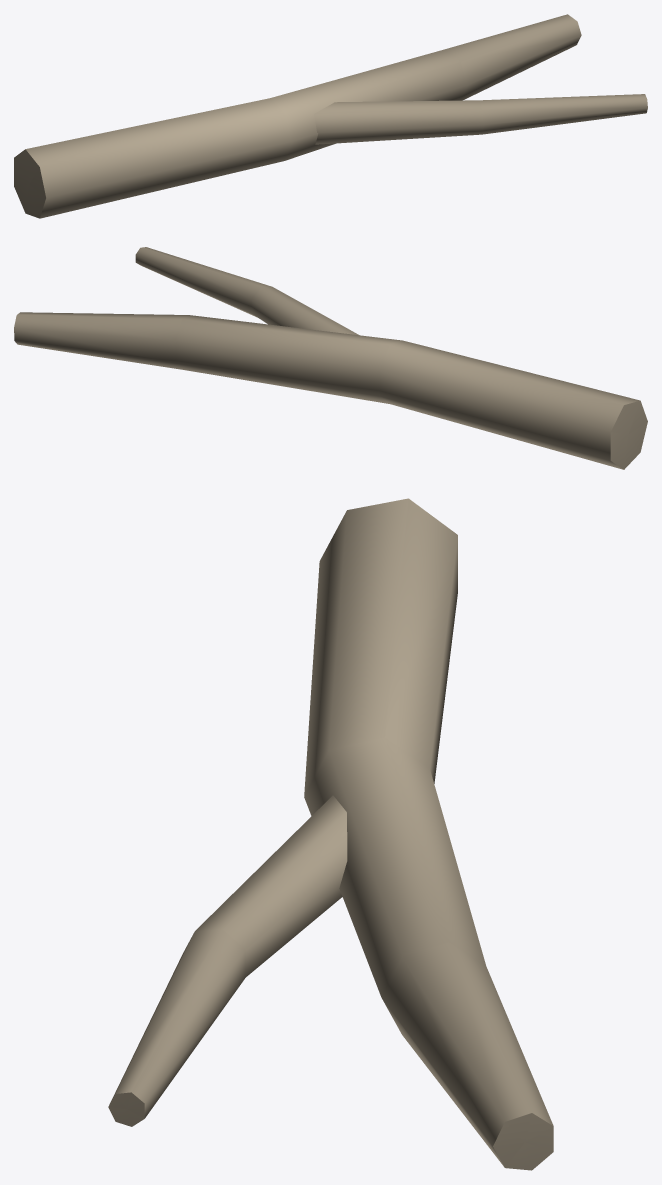
Rendered from driftwood-b.glb.
The picture shows the model from 3 angles, top to bottom: view 1: azimuth 30°, elevation 25°; view 2: azimuth 150°, elevation 25°; view 3: azimuth 270°, elevation 25°; orthographic projection. The views are drawn at different scales.
Parts seen in each view (by area): view 1: driftwood-b; view 2: driftwood-b; view 3: driftwood-b.
Boxes of the visible parts, <box> form: driftwood-b: <box>14,14,647,218</box>; driftwood-b: <box>14,247,647,469</box>; driftwood-b: <box>108,498,553,1170</box>.
Bounding box in the file's own units: 1.21 × 0.1287 × 0.4035.
